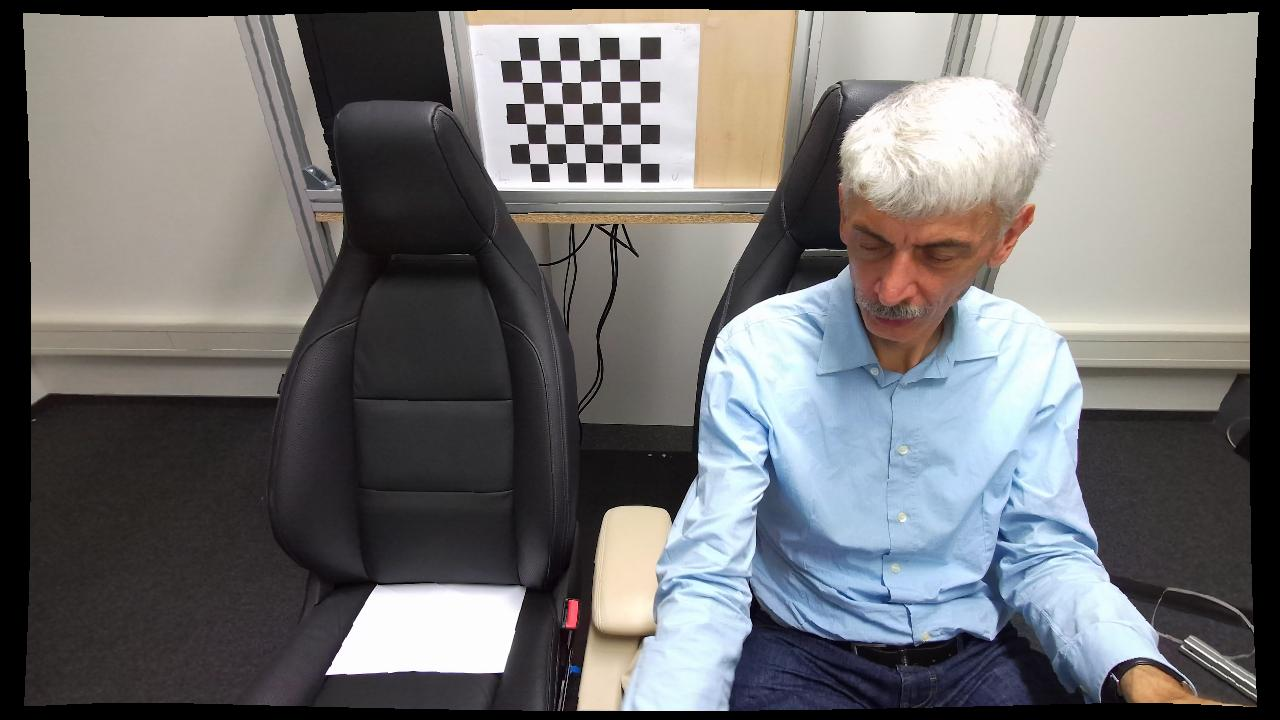Distracted: (619, 69, 1147, 709)
